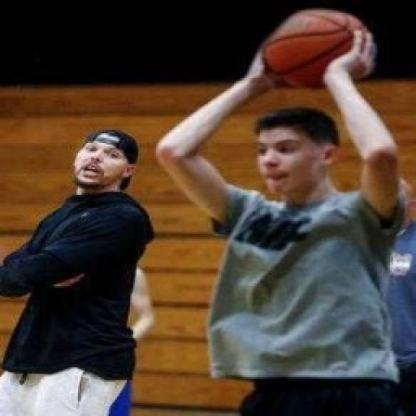basketball: (265, 9, 371, 87)
